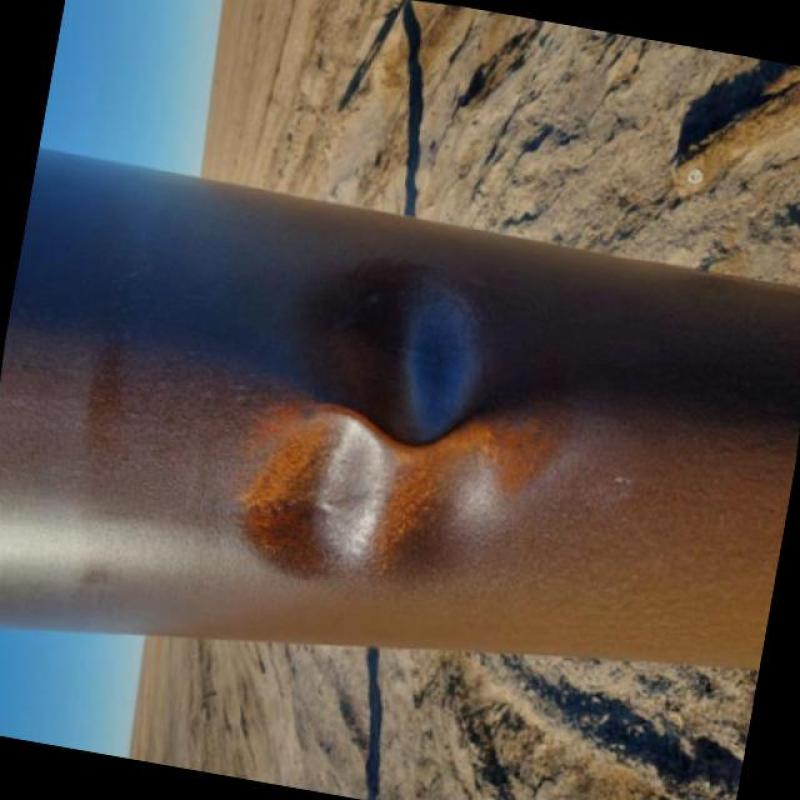Dent: (273, 297, 475, 595)
